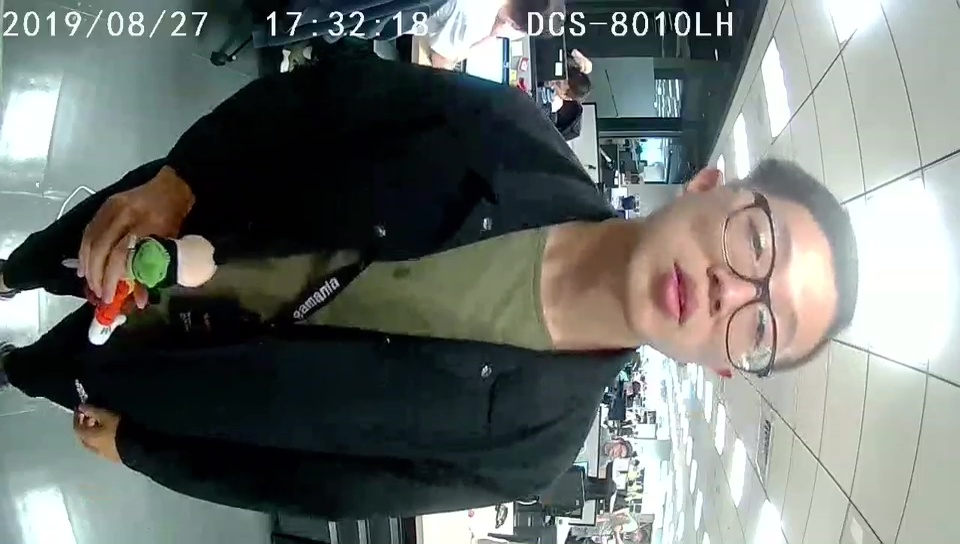goofy: (80, 235, 217, 347)
